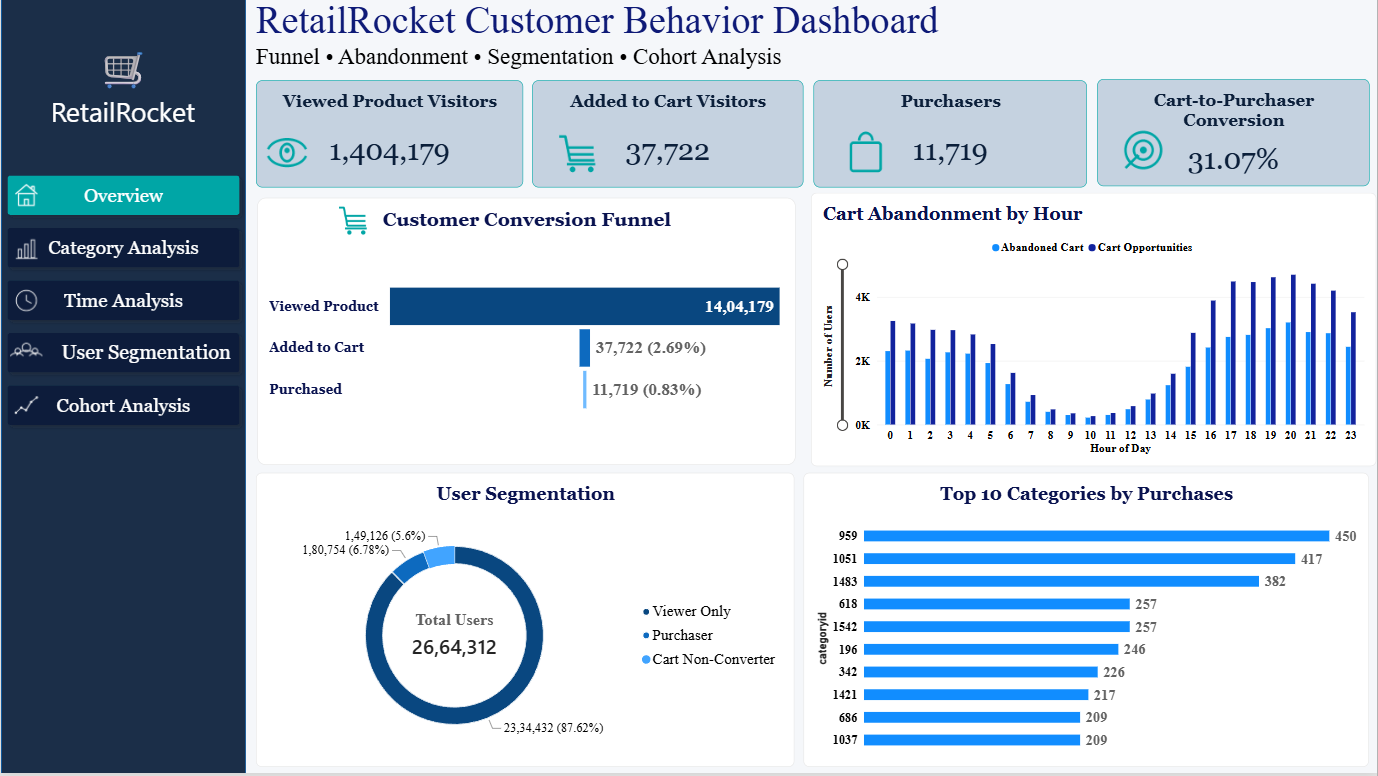

The page's visual inventory and layout, read from the dashboard file:
{"tool":"powerbi","page":{"name":"Overview","canvas":[1920,1080],"ordinal":0},"visuals":[{"type":"shape","box":[0,0,341.9,1081.4],"z":0},{"type":"card","title":"Cart-to-Purchaser Conversion","fields":{"Values":["Funnel.Cart-to-Purchase Conversion Rate"]},"box":[1529.2,111.4,380,149.5],"z":0,"group":"g5"},{"type":"funnel","title":"Customer Conversion Funnel","fields":{"Category":["Funnel.Stage"],"Y":["Sum(Funnel.Unique Visitors)"]},"box":[357.3,277.8,751.1,372.8],"z":0,"group":"g1"},{"type":"textbox","box":[355.8,0,1564.5,99.4],"z":1000},{"type":"image","box":[1550.8,172.6,86.5,75.6],"z":1000,"group":"g5"},{"type":"image","box":[461.2,280,62,57.6],"z":1000,"group":"g1"},{"type":"actionButton","box":[0,237.2,341.9,73.3],"z":2000},{"type":"actionButton","box":[0,310.5,341.9,73.3],"z":3000},{"type":"actionButton","box":[0,383.7,341.9,73.3],"z":4000},{"type":"actionButton","box":[0,457,341.9,73.3],"z":5000},{"type":"actionButton","box":[0,530.2,341.9,73.3],"z":6000},{"type":"textbox","box":[29.7,41.9,280.8,177.9],"z":7000},{"type":"card","title":"Viewed Product Visitors","fields":{"Values":["Funnel.Viewed Product Visitors"]},"box":[356.6,113.4,372.8,149.5],"z":8000,"group":"g2"},{"type":"group","id":"g1","title":"Group 1","box":[357.3,277.8,751.1,372.8],"z":8000},{"type":"group","id":"g2","title":"Group 2","box":[356.6,113.4,372.8,149.5],"z":9000},{"type":"group","id":"g3","title":"Group 3","box":[742.1,113.4,378.2,149.5],"z":10000},{"type":"card","title":"Added to Cart Visitors","fields":{"Values":["Funnel.Added to Cart Visitors"]},"box":[742.1,113.4,378.2,149.5],"z":10000,"group":"g3"},{"type":"card","title":"Purchasers","fields":{"Values":["Funnel.Purchasers"]},"box":[1132.9,114,381.8,149.5],"z":11000,"group":"g4"},{"type":"group","id":"g4","title":"Group 4","box":[1132.9,114,381.8,149.5],"z":11000},{"type":"group","id":"g5","title":"Group 5","box":[1529.2,111.4,380,149.5],"z":12000},{"type":"image","box":[356.6,176.4,86.5,75.6],"z":12001,"group":"g2"},{"type":"image","box":[765.5,176.4,86.5,75.6],"z":12002,"group":"g3"},{"type":"image","box":[1161.7,177,86.5,75.6],"z":12003,"group":"g4"},{"type":"donutChart","title":"User Segmentation","fields":{"Category":["User_Segments.user_segment"],"Y":["Sum(User_Segments.total_views)"]},"box":[356.6,661,751.1,410.7],"z":14000},{"type":"clusteredColumnChart","title":"Cart Abandonment by Hour","fields":{"Category":["Time_Analysis.hour"],"Y":["Sum(Time_Analysis.abandoned)","Sum(Time_Analysis.cart_opportunities)"]},"box":[1131.1,270.2,788.9,381.8],"z":15000},{"type":"clusteredBarChart","title":"Top 10 Categories by Purchases","fields":{"Category":["Category.categoryid"],"Y":["Sum(Category.purchased)"]},"box":[1120.3,661,788.9,410.7],"z":16000}]}

Visuals, with their boxes on the page's 1920x1080 design canvas (x1, y1, x2, y2). These are canvas units, not pixel positions in the 1378x776 screenshot, which may show the page scaled, cropped or inside an application window:
shape: [0, 0, 342, 1081]
"Cart-to-Purchaser Conversion" card: [1529, 111, 1909, 261]
"Customer Conversion Funnel" funnel: [357, 278, 1108, 651]
textbox: [356, 0, 1920, 99]
image: [1551, 173, 1637, 248]
image: [461, 280, 523, 338]
actionButton: [0, 237, 342, 310]
actionButton: [0, 310, 342, 384]
actionButton: [0, 384, 342, 457]
actionButton: [0, 457, 342, 530]
actionButton: [0, 530, 342, 604]
textbox: [30, 42, 310, 220]
"Viewed Product Visitors" card: [357, 113, 729, 263]
"Group 1" group: [357, 278, 1108, 651]
"Group 2" group: [357, 113, 729, 263]
"Group 3" group: [742, 113, 1120, 263]
"Added to Cart Visitors" card: [742, 113, 1120, 263]
"Purchasers" card: [1133, 114, 1515, 264]
"Group 4" group: [1133, 114, 1515, 264]
"Group 5" group: [1529, 111, 1909, 261]
image: [357, 176, 443, 252]
image: [766, 176, 852, 252]
image: [1162, 177, 1248, 253]
"User Segmentation" donutChart: [357, 661, 1108, 1072]
"Cart Abandonment by Hour" clusteredColumnChart: [1131, 270, 1920, 652]
"Top 10 Categories by Purchases" clusteredBarChart: [1120, 661, 1909, 1072]
